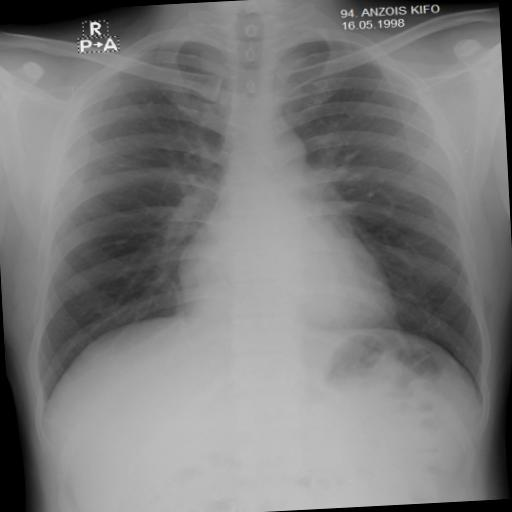normal: (8, 4, 496, 436)
